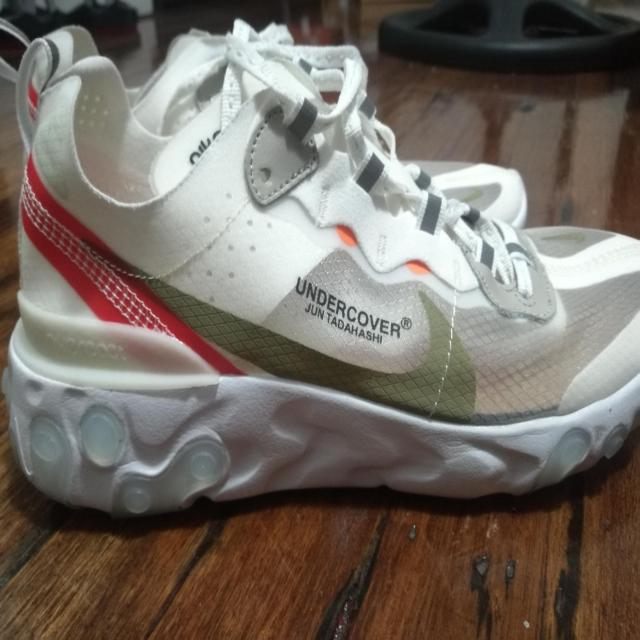shoe: (0, 10, 640, 518)
